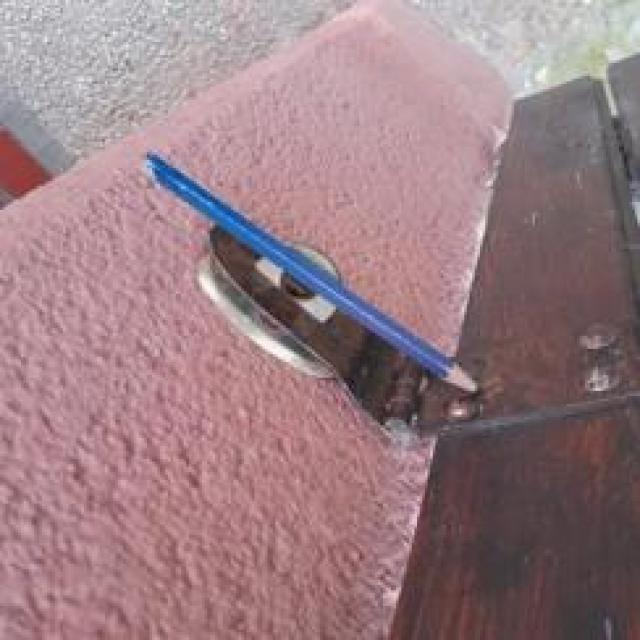pencil: (123, 136, 502, 408)
